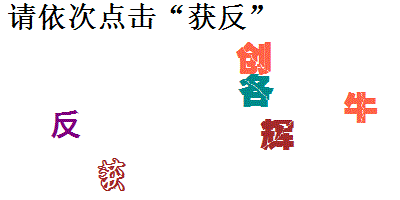result: (186, 1, 247, 33)
text: (258, 115, 297, 153), (234, 40, 274, 75), (238, 72, 273, 108), (94, 157, 128, 194), (343, 89, 378, 124), (49, 109, 82, 142)
